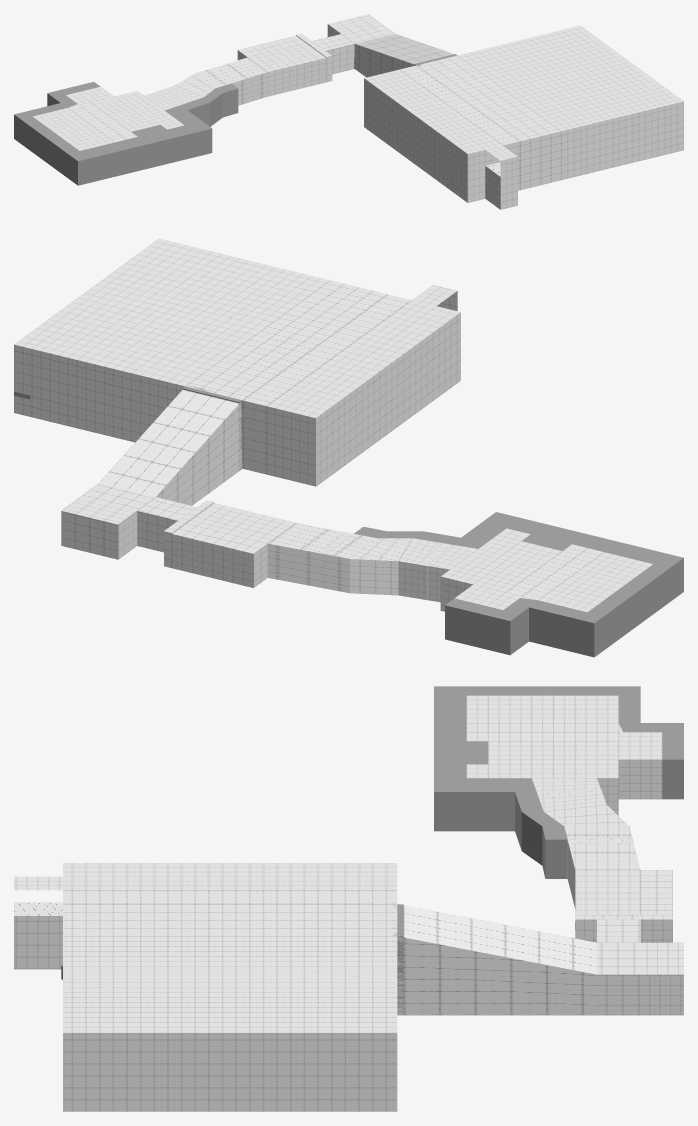
The model's file is LevelGreyBoxV01.fbx.
3 views of the same model, one above another, from view 1: azimuth 30°, elevation 25°; view 2: azimuth 150°, elevation 25°; view 3: azimuth 270°, elevation 25° (orthographic). The views are drawn at different scales.
Visible parts, largest first — view 1: Ammo_Blue_Cube_14, Ammo_Blue_Base_Level, pCube1, Ammo_Blue_Cube_18; view 2: Ammo_Blue_Cube_14, Ammo_Blue_Base_Level, pCube1, Ammo_Blue_Cube_18; view 3: Ammo_Blue_Cube_14, Ammo_Blue_Base_Level, pCube1, Ammo_Blue_Cube_18, pCube57.
Part boxes in pixels (x1,y1,x2,y2): Ammo_Blue_Cube_14: (312, 14, 683, 209); Ammo_Blue_Base_Level: (32, 36, 326, 150); pCube1: (14, 82, 238, 185); Ammo_Blue_Cube_18: (296, 33, 332, 82); Ammo_Blue_Cube_14: (14, 238, 460, 559); Ammo_Blue_Base_Level: (172, 503, 652, 612); pCube1: (354, 512, 683, 657); Ammo_Blue_Cube_18: (164, 500, 214, 567); Ammo_Blue_Cube_14: (14, 863, 683, 1111); Ammo_Blue_Base_Level: (466, 695, 672, 914); pCube1: (434, 686, 683, 878); Ammo_Blue_Cube_18: (575, 915, 672, 942); pCube57: (393, 904, 403, 1014).
Size of the model in its own units: 84 by 8 by 61.62.
Materials: 6 (4 with a texture image).
